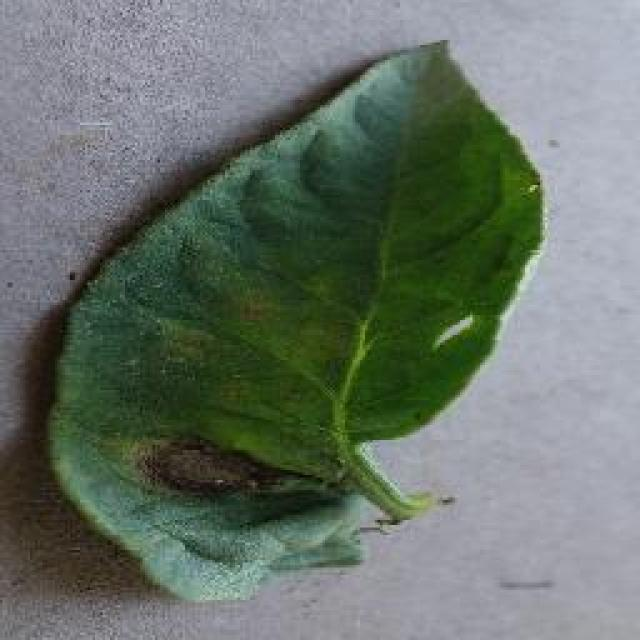Tomato___Early_blight: (43, 41, 550, 611)
